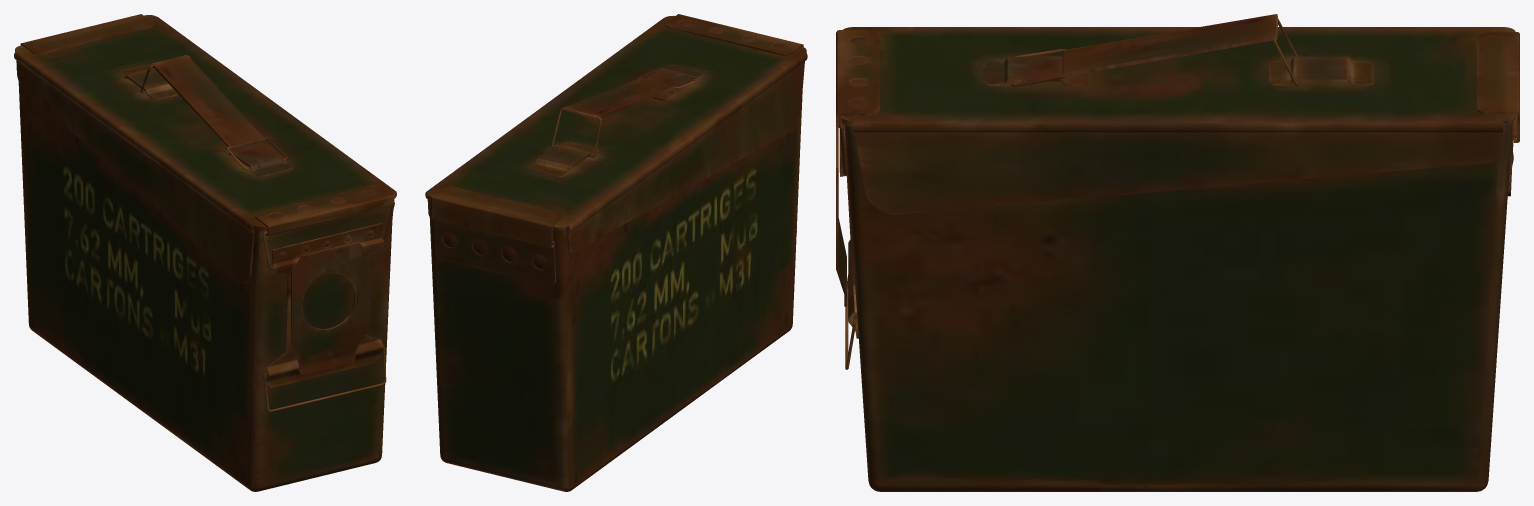
File: ammo_box.glb
3 views of the same model, side by side, from view 1: azimuth 30°, elevation 25°; view 2: azimuth 150°, elevation 25°; view 3: azimuth 270°, elevation 25° (orthographic). The views are drawn at different scales.
Visible parts, largest first — view 1: ammo_box_handle_ring_b; view 2: ammo_box_handle_ring_b; view 3: ammo_box_handle_ring_b.
Part boxes in pixels (x1,y1,x2,y2): ammo_box_handle_ring_b: (14,14,396,491); ammo_box_handle_ring_b: (425,14,807,491); ammo_box_handle_ring_b: (836,14,1519,491).
Bounding box in the file's own units: 0.0866 × 0.1775 × 0.2579.
1 material, 1 textured.
